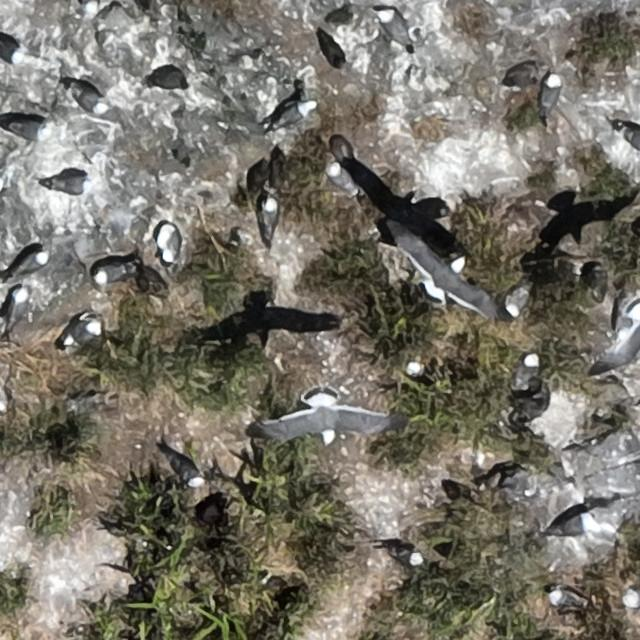F: (396, 222, 487, 310), (262, 398, 366, 438)
umineko: (550, 511, 597, 539), (73, 86, 106, 114), (174, 456, 202, 487), (67, 320, 100, 346), (379, 10, 404, 43), (4, 120, 48, 138), (278, 103, 312, 126), (328, 164, 354, 194), (540, 75, 560, 112), (48, 177, 89, 194), (15, 252, 46, 274), (514, 354, 536, 385), (158, 226, 178, 260), (261, 198, 278, 236), (94, 264, 126, 284), (506, 287, 528, 316), (389, 546, 422, 565), (0, 36, 24, 62), (11, 290, 29, 324), (548, 588, 576, 607), (620, 126, 640, 148)
